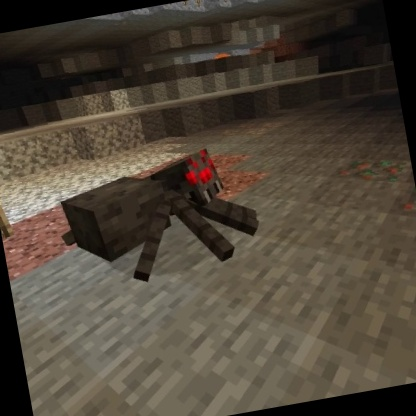spider: (47, 137, 271, 299)
